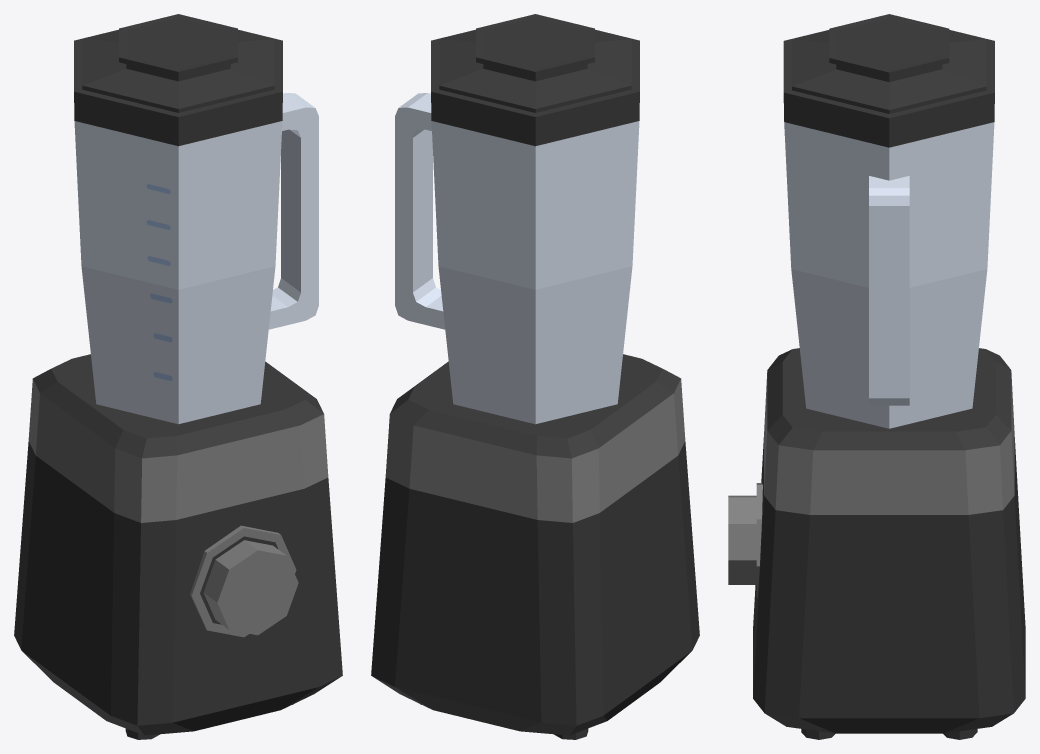
The model's file is blender.fbx.
The picture shows the model from 3 angles, left to right: view 1: azimuth 30°, elevation 25°; view 2: azimuth 150°, elevation 25°; view 3: azimuth 270°, elevation 25°; orthographic projection.
Parts seen in each view (by area): view 1: blender; view 2: blender; view 3: blender.
Boxes of the visible parts, x1,y1,x2,y2 form: blender: (14, 14, 342, 739); blender: (371, 14, 699, 739); blender: (728, 14, 1025, 739).
Bounding box in the file's own units: 0.3123 × 0.7949 × 0.3271.
Materials: 1 (1 with a texture image).
